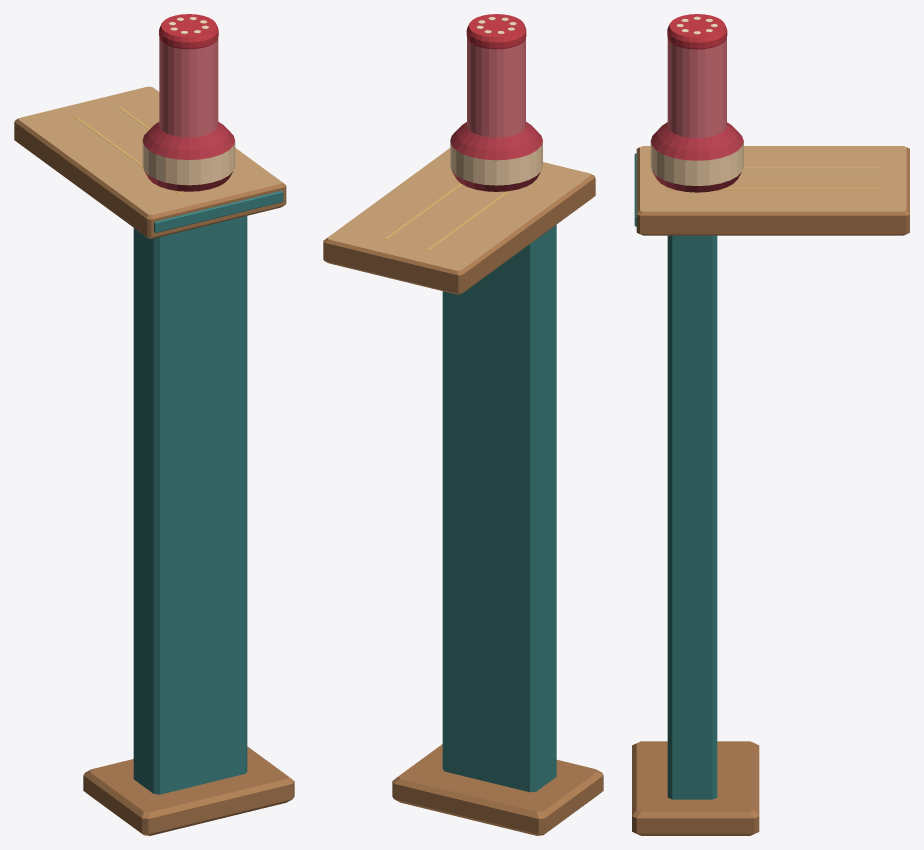
The model's file is shelf_item.glb.
3 renders of one model, left to right at view 1: azimuth 30°, elevation 25°; view 2: azimuth 150°, elevation 25°; view 3: azimuth 270°, elevation 25°, orthographic.
Visible parts, largest first — view 1: Display rail, Jam jar; view 2: Display rail, Jam jar; view 3: Display rail, Jam jar.
Part boxes in pixels (x1=…): Display rail: x1=14, y1=86, x2=294, y2=835; Jam jar: x1=142, y1=14, x2=235, y2=191; Display rail: x1=323, y1=148, x2=603, y2=835; Jam jar: x1=450, y1=14, x2=542, y2=191; Display rail: x1=632, y1=146, x2=909, y2=835; Jam jar: x1=650, y1=14, x2=743, y2=192.
Bounding box in the file's own units: 0.114 × 0.5513 × 0.179.
